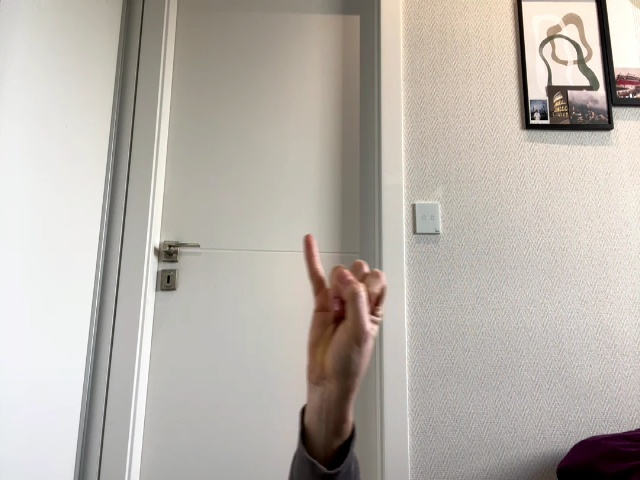I: (303, 234, 386, 399)
